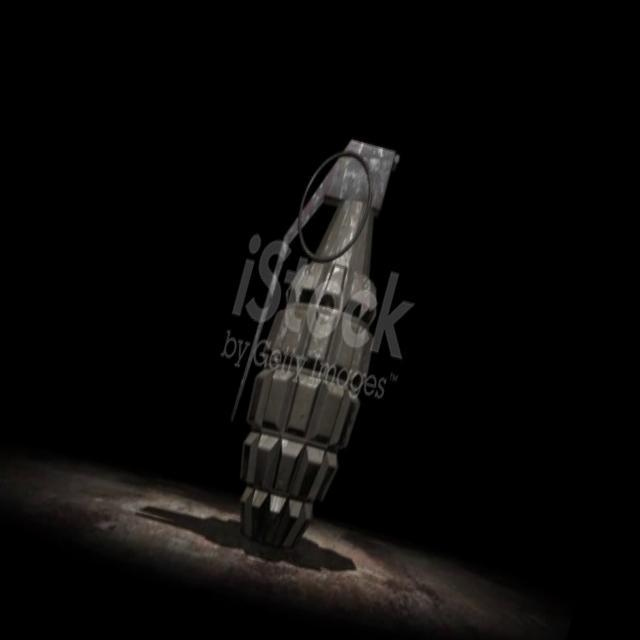grenade: (197, 117, 428, 568)
